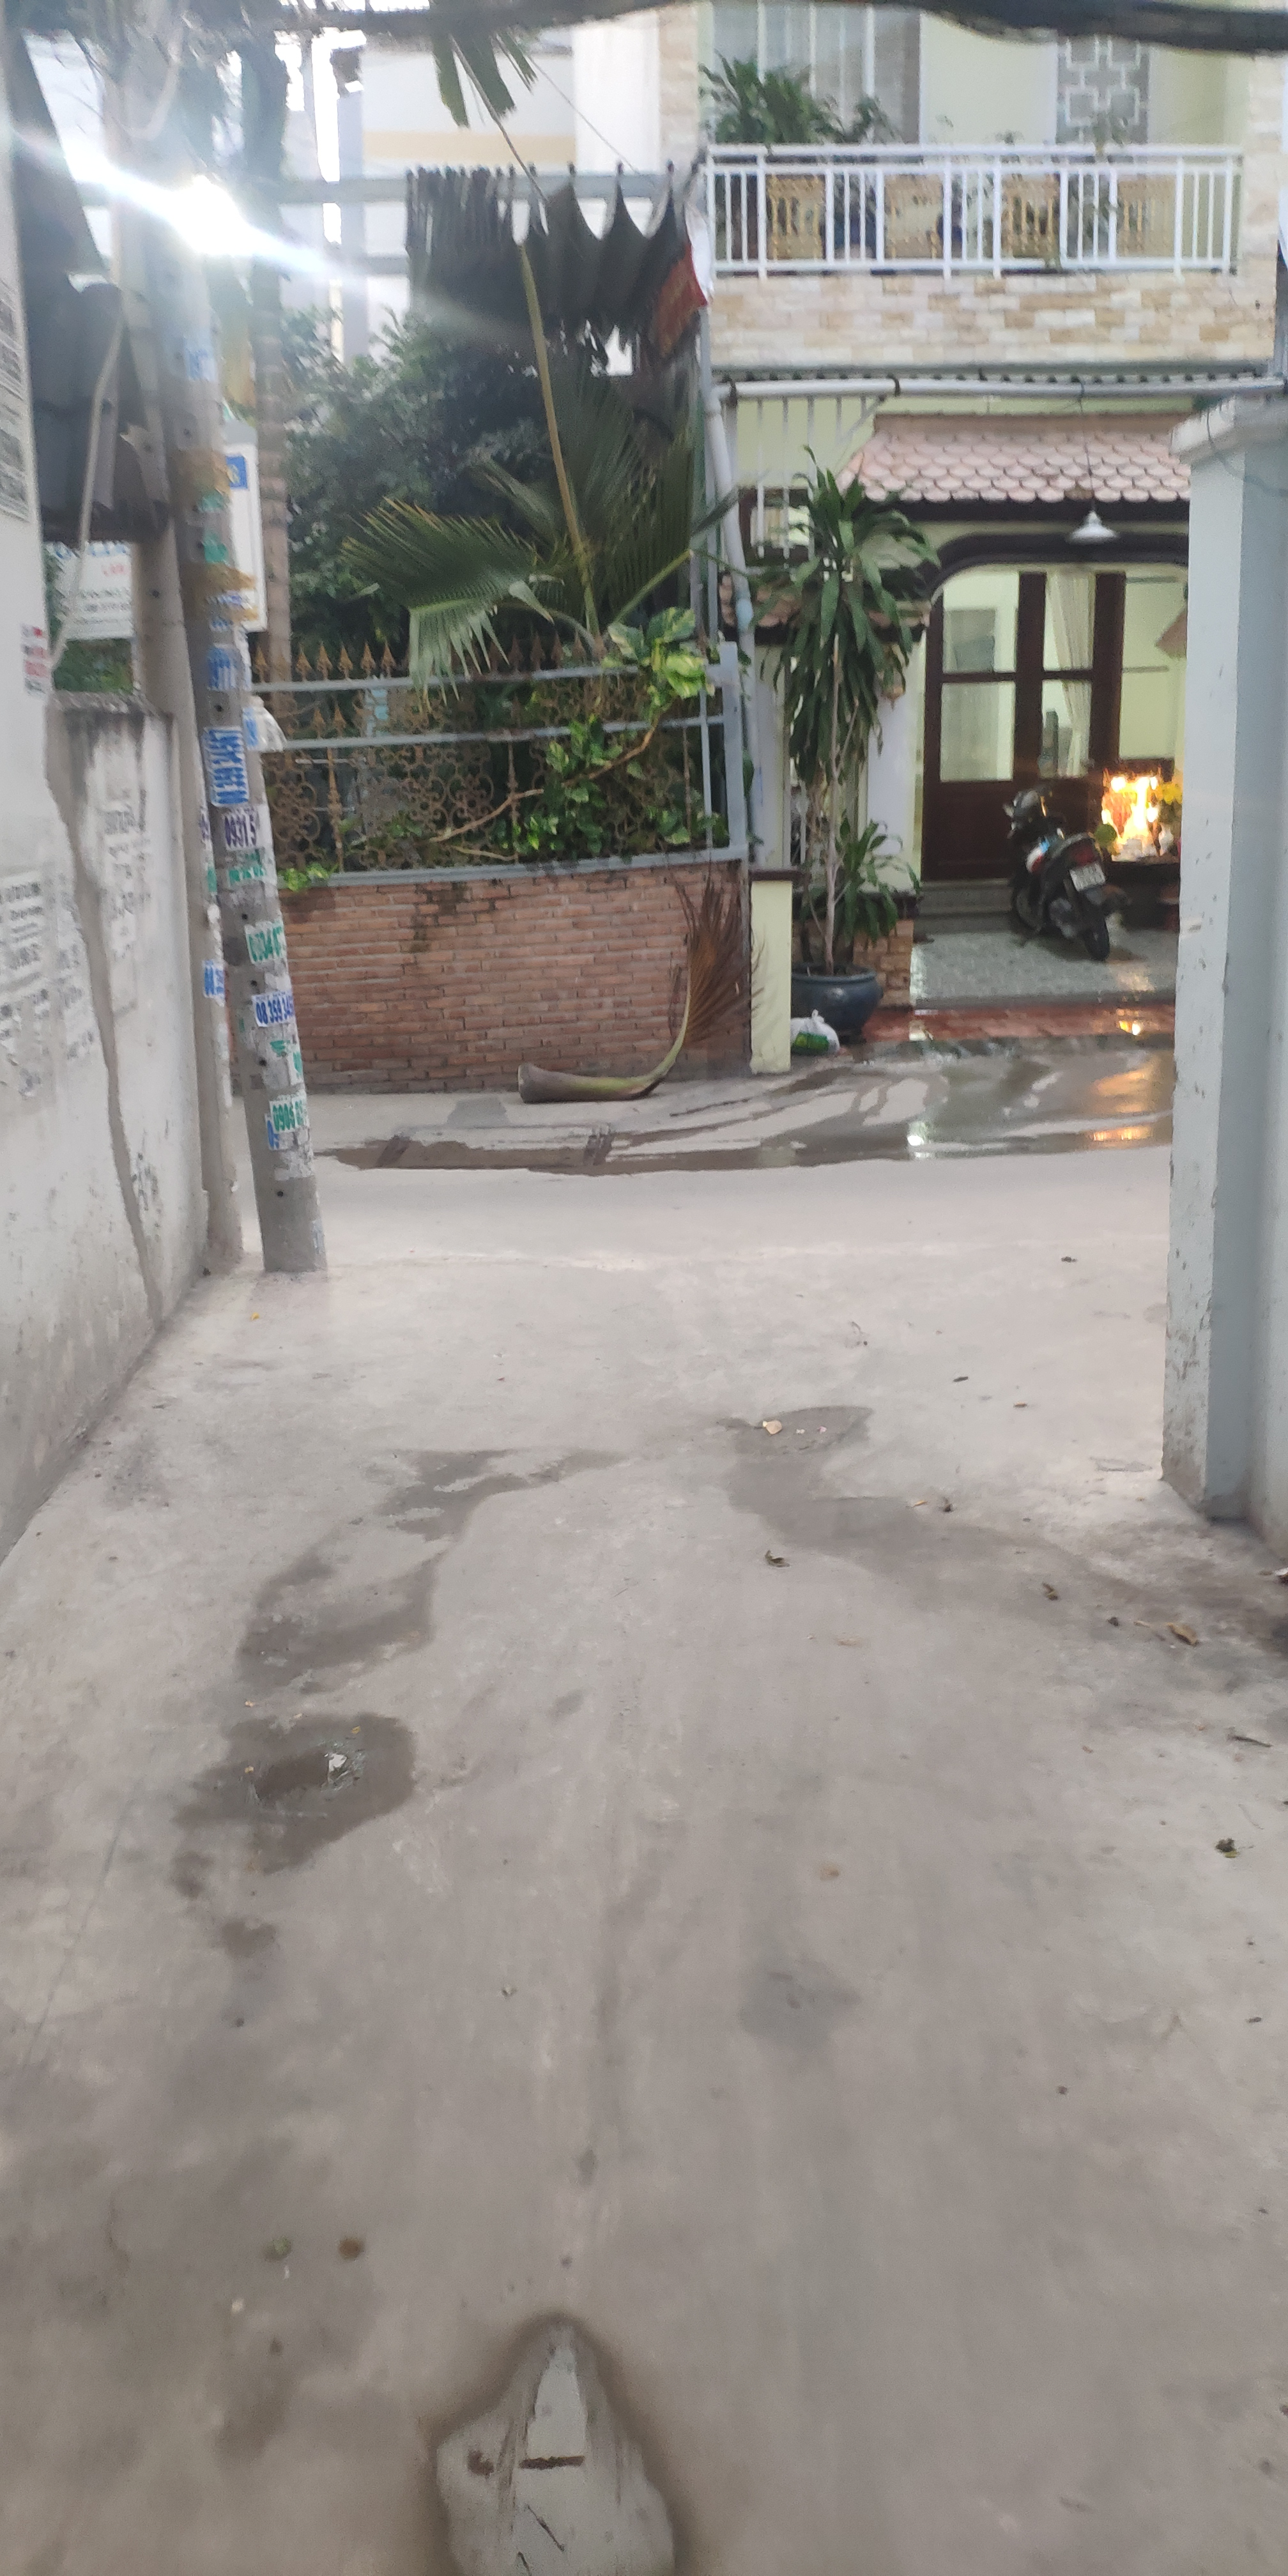hole: (498, 2333, 628, 2576), (255, 1738, 375, 1807)
